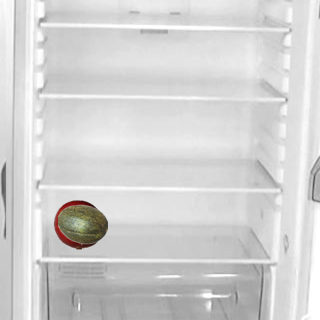Apple Braeburn: (53, 199, 103, 249)
Melon Piel de Sapo: (57, 199, 107, 249)
